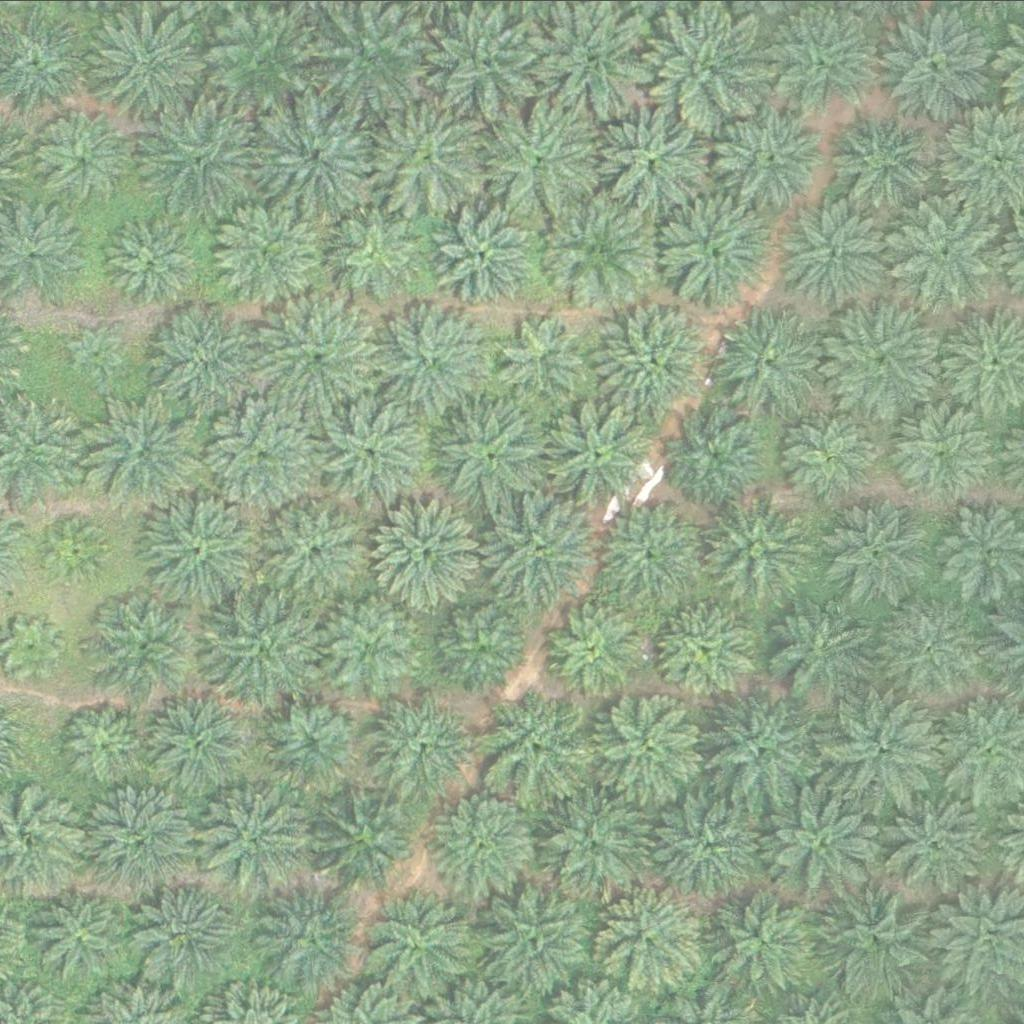Kelapa_Sawit: (201, 7, 315, 120), (137, 101, 251, 214), (309, 776, 423, 889), (361, 891, 475, 1004), (427, 784, 541, 897), (480, 686, 594, 799), (591, 689, 705, 802), (763, 588, 877, 701), (259, 101, 372, 214), (83, 398, 196, 511), (206, 394, 319, 507), (143, 492, 256, 605), (85, 780, 198, 893), (200, 779, 313, 892), (30, 877, 143, 990), (540, 788, 653, 901), (373, 492, 486, 605), (318, 399, 431, 512), (432, 396, 545, 509), (537, 395, 650, 508), (597, 301, 710, 414), (656, 191, 769, 304), (372, 100, 485, 213), (431, 5, 544, 118), (537, 3, 650, 116), (652, 9, 765, 122), (778, 195, 891, 308), (894, 191, 1007, 304), (713, 304, 826, 417), (827, 299, 940, 412), (876, 591, 989, 704), (707, 691, 820, 804), (829, 689, 942, 802), (249, 882, 363, 994), (698, 495, 812, 607), (822, 496, 936, 608), (87, 6, 200, 118), (214, 195, 327, 307), (148, 301, 261, 413), (261, 299, 374, 411), (262, 493, 375, 605), (89, 589, 202, 701), (211, 590, 324, 702), (147, 687, 260, 799), (132, 877, 245, 989), (479, 880, 592, 992), (594, 879, 707, 991), (647, 782, 760, 894), (486, 495, 599, 607), (596, 497, 709, 609), (379, 305, 492, 417), (542, 193, 655, 305), (484, 99, 597, 211), (590, 101, 703, 213), (769, 4, 882, 116), (880, 7, 993, 119), (714, 97, 827, 209), (766, 784, 879, 896), (877, 787, 990, 899), (710, 884, 823, 996), (825, 881, 938, 993), (264, 691, 365, 791), (319, 591, 420, 691), (429, 590, 530, 690), (664, 406, 765, 506), (497, 306, 598, 406), (319, 202, 420, 302), (430, 206, 531, 306), (831, 104, 932, 204), (31, 109, 131, 209), (100, 211, 200, 311), (369, 688, 469, 788), (544, 592, 644, 692), (656, 596, 756, 696), (783, 405, 883, 505), (897, 400, 997, 500), (57, 699, 145, 787), (44, 518, 107, 581), (1, 615, 64, 678), (64, 322, 127, 384)
